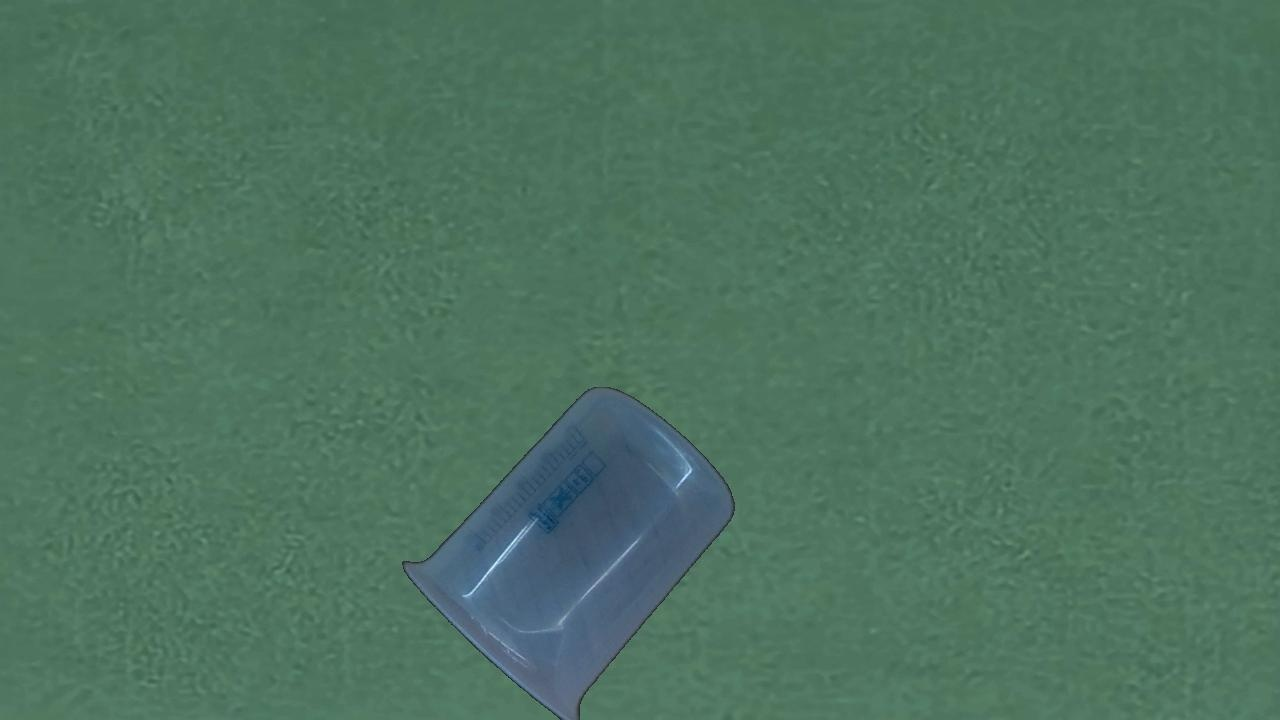becker: (401, 387, 736, 716)
